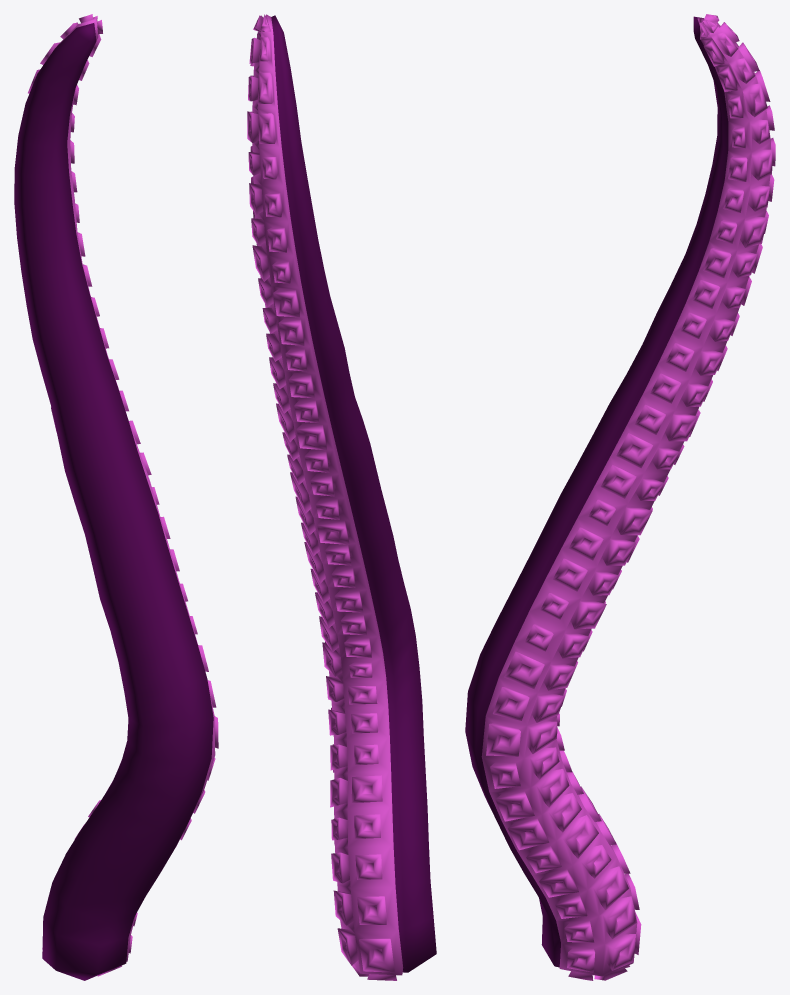
Rendered from tentacule4.fbx.
3 views of the same model, side by side, from view 1: azimuth 30°, elevation 25°; view 2: azimuth 150°, elevation 25°; view 3: azimuth 270°, elevation 25° (orthographic). The views are drawn at different scales.
Parts seen in each view (by area): view 1: tentacule013; view 2: tentacule013; view 3: tentacule013.
Boxes of the visible parts, <box> form: tentacule013: <box>14,14,218,980</box>; tentacule013: <box>247,14,436,980</box>; tentacule013: <box>465,14,775,980</box>.
Size of the model in its own units: 53.03 by 362 by 102.
